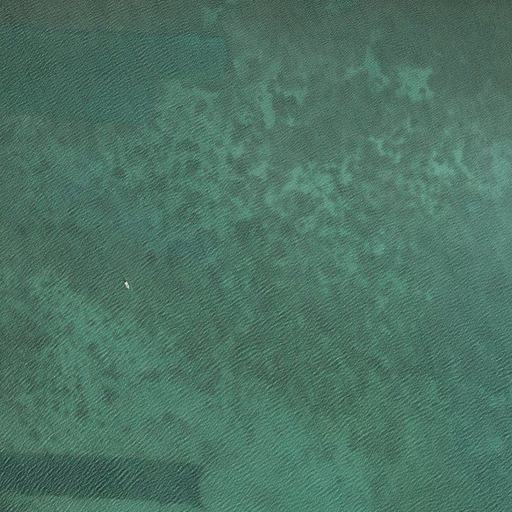ship: (124, 281, 130, 289)
